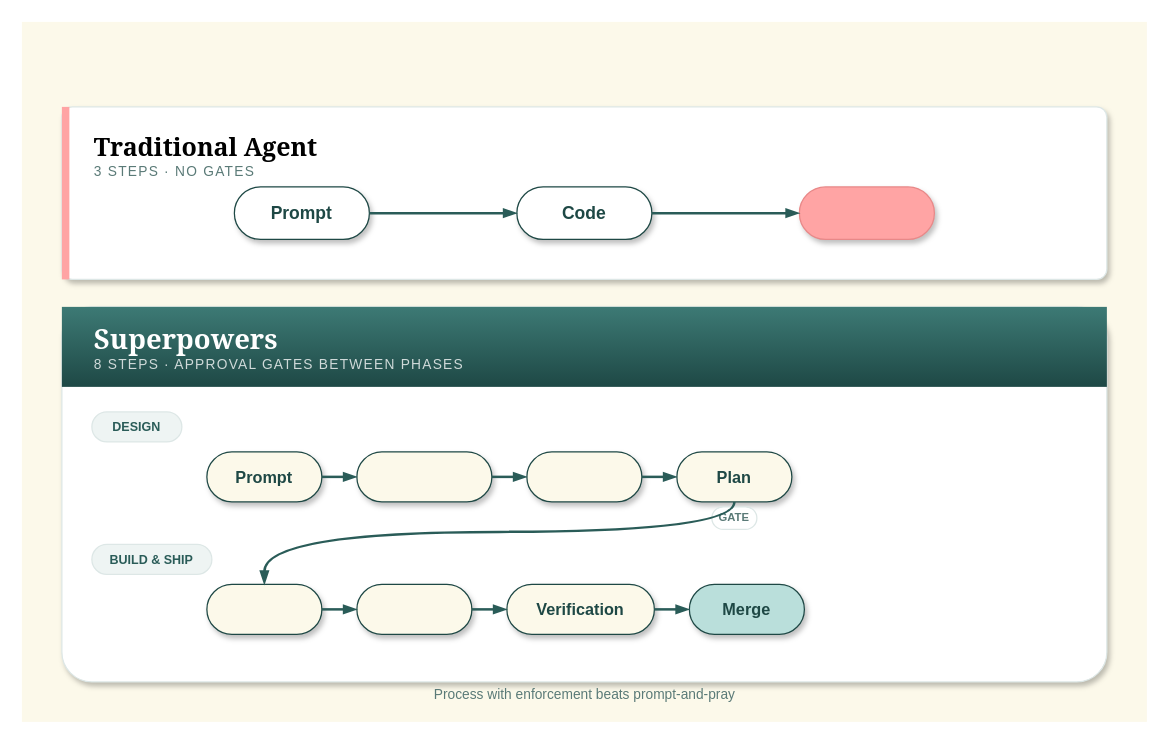
Image size: 1168x743. Some labels were removed from this diagram. The shapes that lost their labels are listed below. From the top down, each one's centre as x and y in pixels, then its label:
At pixel 867 214: "Hope".
At pixel 425 478: "Brainstorm".
At pixel 585 478: "Spec".
At pixel 265 610: "TDD".
At pixel 415 610: "Review".
